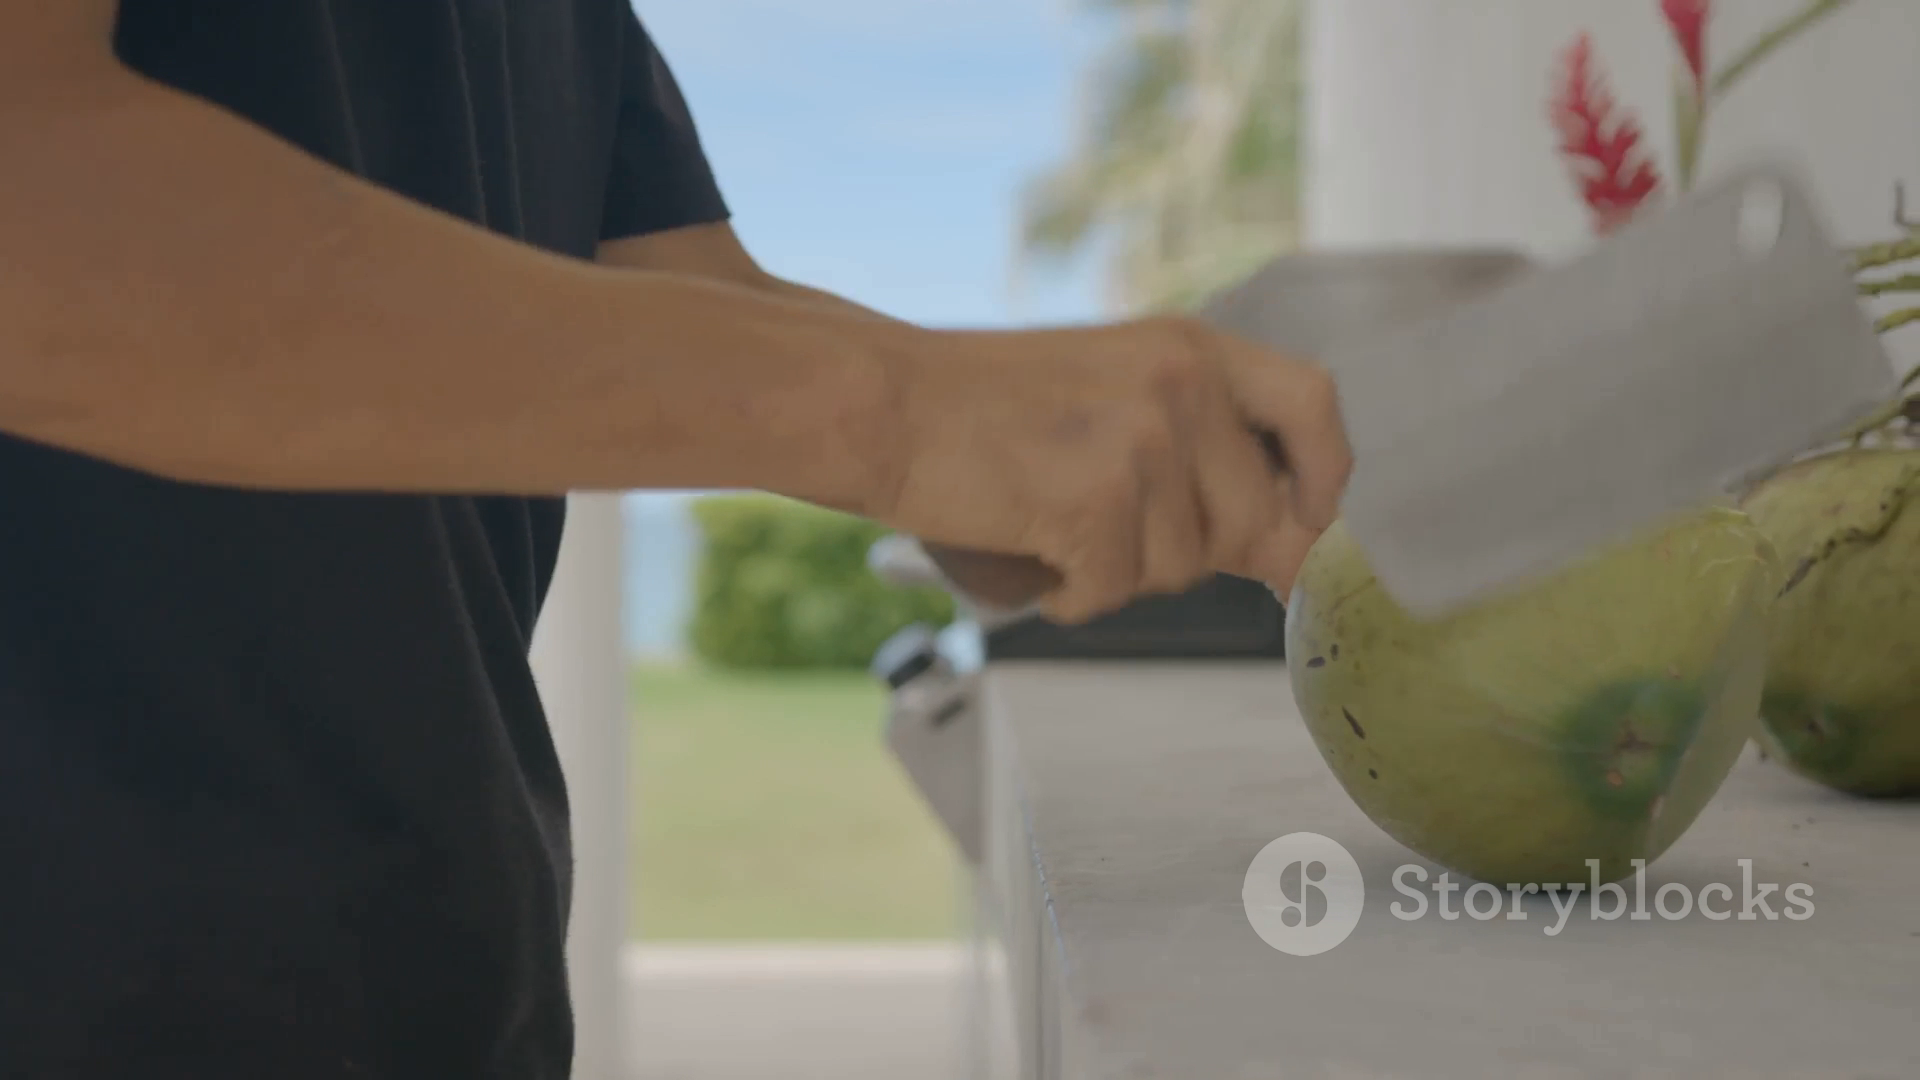cortante: (1320, 164, 1899, 622)
